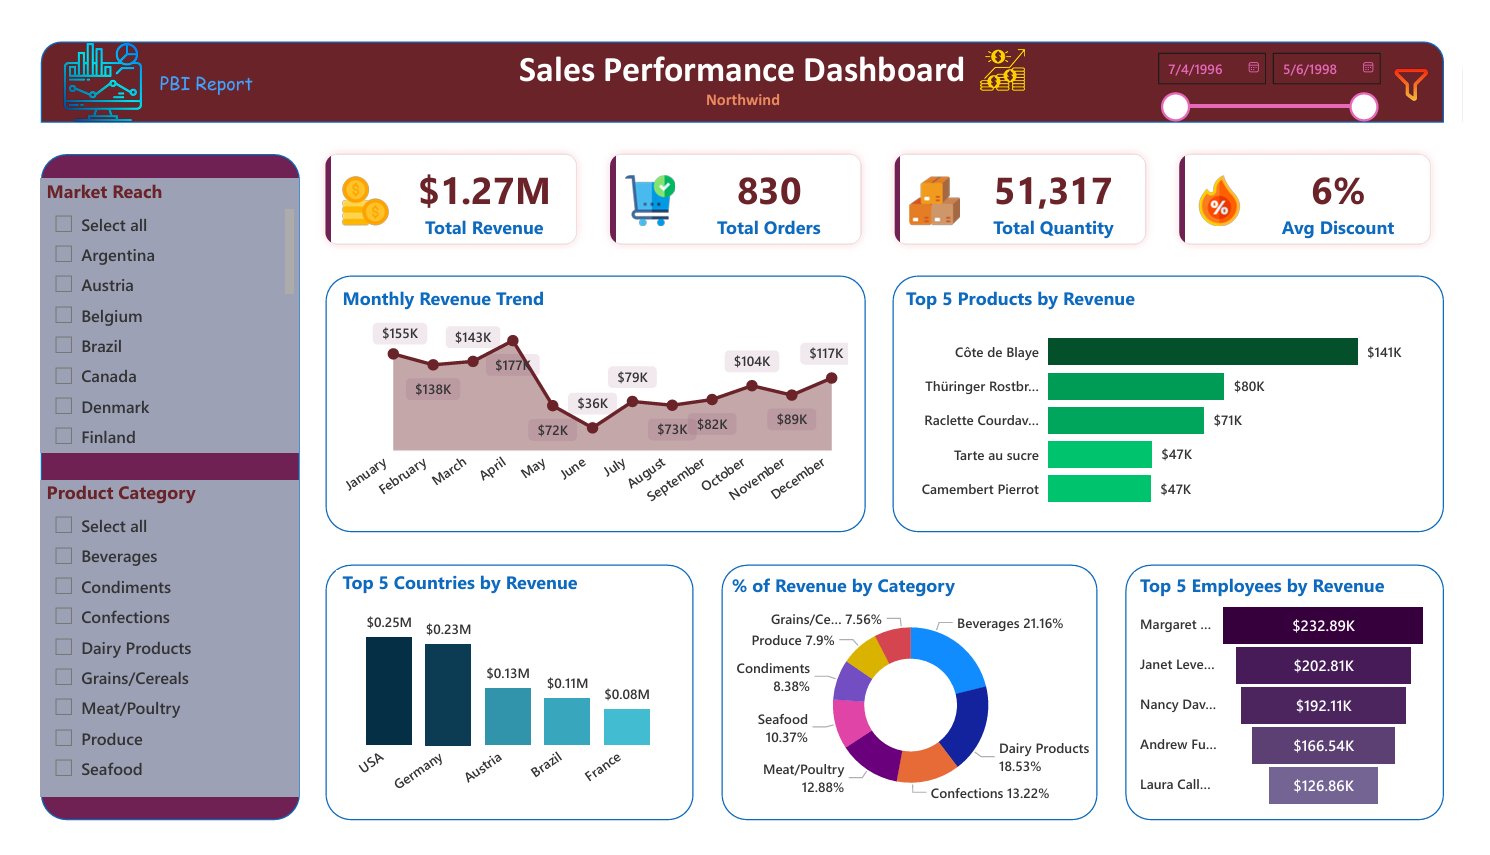

The dashboard page shown, as its layout file describes it:
{"tool":"powerbi","page":{"name":"Northwind Dashboard","canvas":[1280,720],"ordinal":0},"visuals":[{"type":"cardVisual","fields":{"Data":["Key Measures.Total Revenue","Key Measures.Total Orders","Key Measures.Total Quantity","Key Measures.Avg Discount"]},"box":[241.2,85,1038.8,136.2],"z":0},{"type":"shape","box":[16.2,12.5,1246.2,72.5],"z":1000},{"type":"shape","box":[268.8,221.2,480,227.5],"z":2000},{"type":"areaChart","title":"Monthly Revenue Trend","fields":{"Category":["dwh dim_date.full_date.Variation.Date Hierarchy.Month"],"Y":["Key Measures.Total Revenue"]},"box":[278.8,230,458.8,210],"z":3000},{"type":"shape","box":[772.5,221.2,490,227.5],"z":4000},{"type":"clusteredBarChart","title":"Top 5 Products by Revenue","fields":{"Category":["dwh dim_products.product_name"],"Y":["Key Measures.Total Revenue"]},"box":[780,230,475,210],"z":5000},{"type":"shape","box":[268.8,477.5,327.5,227.5],"z":6000},{"type":"donutChart","title":"% of Revenue by Category","fields":{"Category":["dwh dim_products.category_name"],"Y":["Key Measures.Total Revenue"]},"box":[625,485,327.5,212.5],"z":7000},{"type":"shape","box":[621.2,477.5,333.8,227.5],"z":8000},{"type":"shape","box":[980,477.5,282.5,227.5],"z":9000},{"type":"clusteredColumnChart","title":"Top 5 Countries by Revenue","fields":{"Category":["dwh dim_customers.country"],"Y":["Key Measures.Total Revenue"]},"box":[278.8,482.5,306.2,216.2],"z":10000},{"type":"funnel","title":"Top 5 Employees by Revenue","fields":{"Category":["dwh dim_employees.Employee Full Name"],"Y":["Key Measures.Total Revenue"]},"box":[987.5,485,267.5,212.5],"z":11000},{"type":"shape","box":[16.2,112.5,230,592.5],"z":12000},{"type":"slicer","title":"Product Category","fields":{"Values":["dwh dim_products.category_name"]},"box":[16.2,402.5,230,281.2],"z":13000},{"type":"slicer","title":"Market Reach","fields":{"Values":["dwh dim_customers.country"]},"box":[16.2,135,230,243.8],"z":14000},{"type":"textbox","box":[418.8,12.5,441.2,50],"z":15000},{"type":"textbox","box":[598.8,50,82.5,35],"z":16000},{"type":"image","box":[837.5,17.5,65,40],"z":17000},{"type":"image","box":[16.2,12.5,110,72.5],"z":18000},{"type":"textbox","box":[107.5,32.5,110,35],"z":19000},{"type":"image","box":[1212.5,27.5,42.5,45],"z":20000},{"type":"slicer","fields":{"Values":["dwh fact_sales.order_date"]},"box":[996.2,12.5,216.2,72.5],"z":21000}]}

Visuals, with their boxes in screenshot pixels (x1, y1, x2, y2), scaled from the page's 1280x720 canvas onto the 1490x855 screenshot:
cardVisual - Key Measures.Total Revenue x Key Measures.Total Orders: box(281, 101, 1489, 263)
shape: box(19, 15, 1470, 101)
shape: box(313, 263, 872, 533)
"Monthly Revenue Trend" areaChart: box(325, 273, 859, 522)
shape: box(899, 263, 1470, 533)
"Top 5 Products by Revenue" clusteredBarChart: box(908, 273, 1461, 522)
shape: box(313, 567, 694, 837)
"% of Revenue by Category" donutChart: box(728, 576, 1109, 828)
shape: box(723, 567, 1112, 837)
shape: box(1141, 567, 1470, 837)
"Top 5 Countries by Revenue" clusteredColumnChart: box(325, 573, 681, 830)
"Top 5 Employees by Revenue" funnel: box(1150, 576, 1461, 828)
shape: box(19, 134, 287, 837)
"Product Category" slicer: box(19, 478, 287, 812)
"Market Reach" slicer: box(19, 160, 287, 450)
textbox: box(488, 15, 1001, 74)
textbox: box(697, 59, 793, 101)
image: box(975, 21, 1051, 68)
image: box(19, 15, 147, 101)
textbox: box(125, 39, 253, 80)
image: box(1411, 33, 1461, 86)
slicer - dwh fact_sales.order_date: box(1160, 15, 1411, 101)
